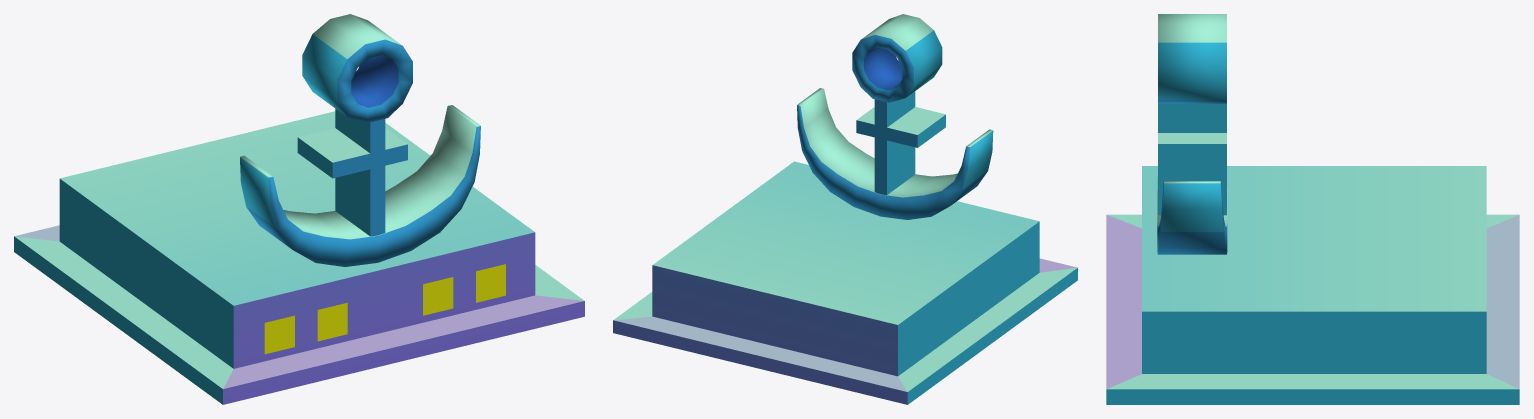
File: Port.AzureAsteroid.glb
3 renders of one model, left to right at view 1: azimuth 30°, elevation 25°; view 2: azimuth 150°, elevation 25°; view 3: azimuth 270°, elevation 25°, orthographic. The views are drawn at different scales.
Visible parts, largest first — view 1: Port.AzureAsteroid; view 2: Port.AzureAsteroid; view 3: Port.AzureAsteroid.
Part boxes in pixels (x1,y1,x2,y2): Port.AzureAsteroid: (14, 14, 584, 404); Port.AzureAsteroid: (613, 14, 1077, 404); Port.AzureAsteroid: (1106, 14, 1519, 404).
Size of the model in its own units: 2.4 by 1.9 by 2.4.
2 materials, 1 textured.
